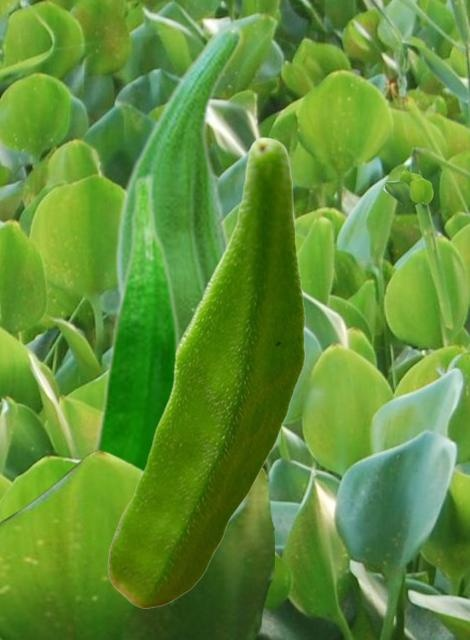okra: (107, 136, 304, 607), (114, 22, 279, 480), (89, 172, 180, 467)
